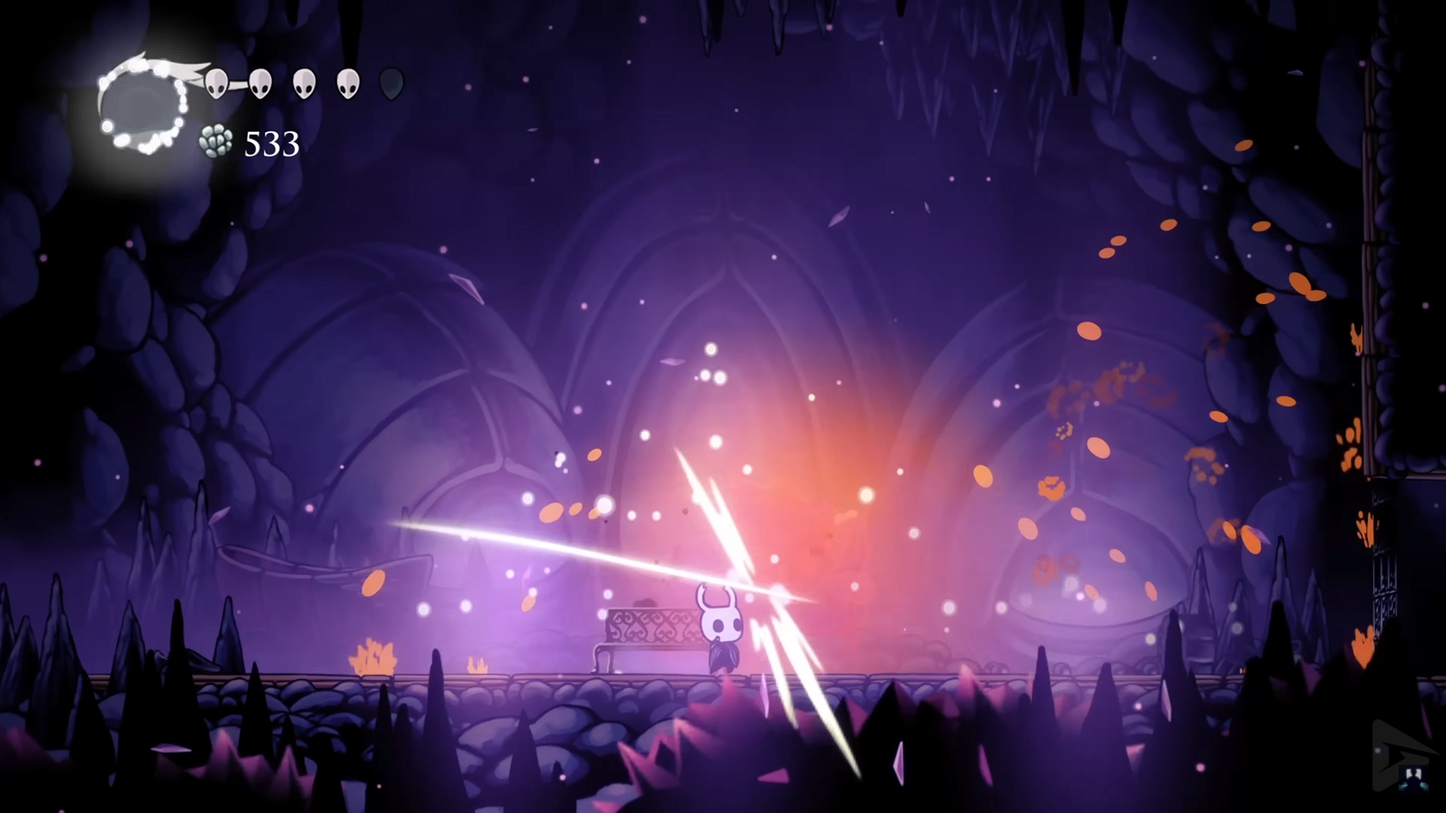HK: (685, 573, 744, 677)
